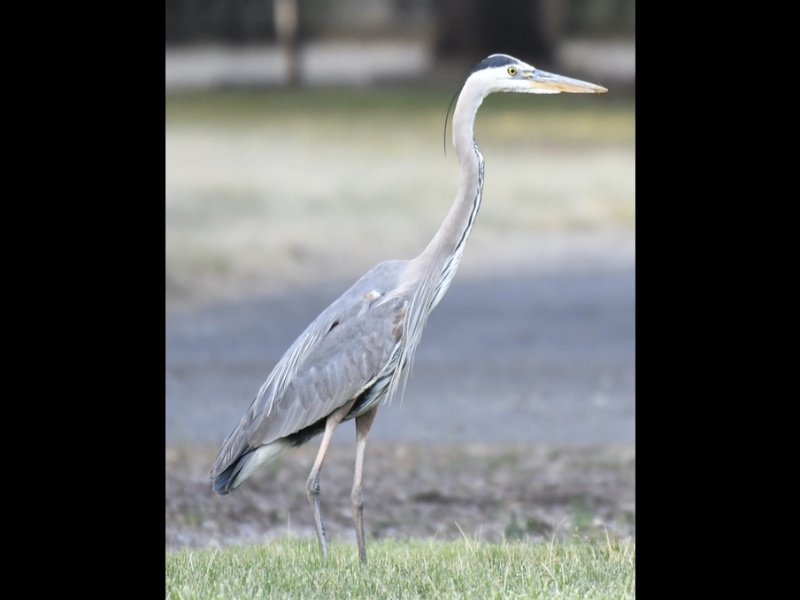heron: (213, 46, 612, 554)
